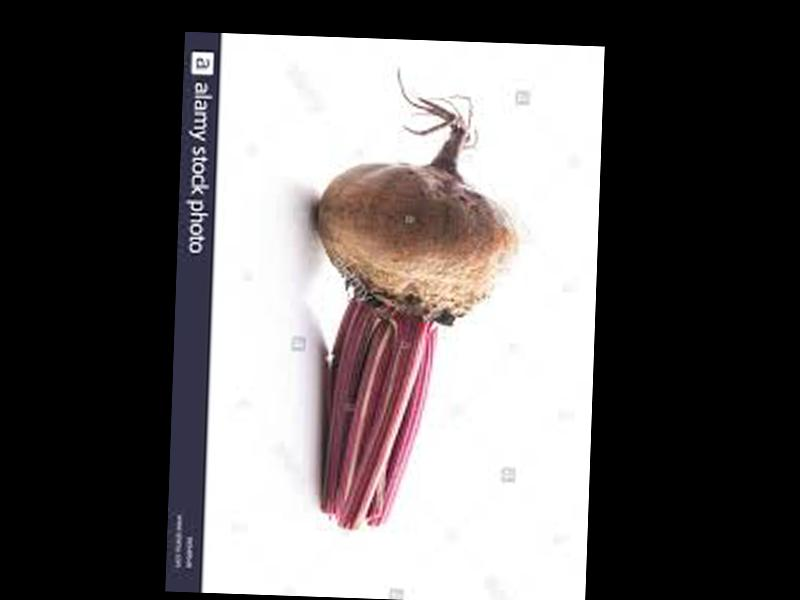Beet: (305, 65, 522, 535)
